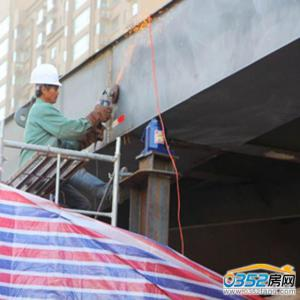white: (31, 65, 63, 106)
